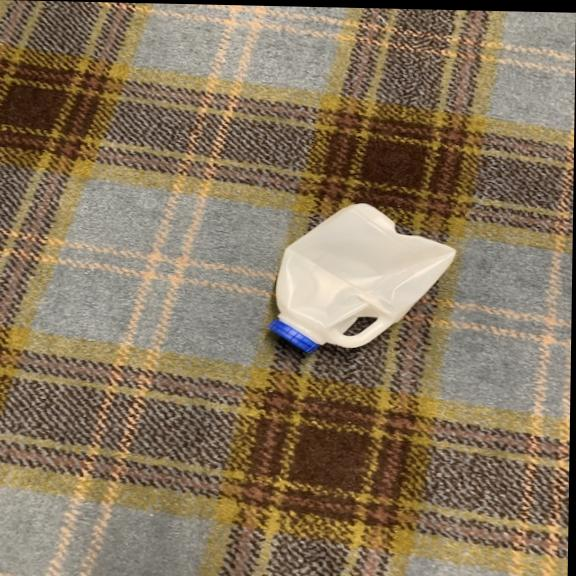Plastik: (252, 199, 462, 359)
